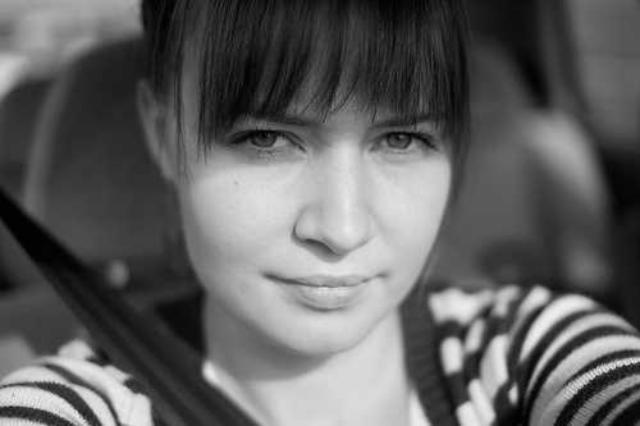SafeDriving: (218, 108, 320, 165), (355, 109, 451, 165)
Seatbelt: (0, 183, 267, 426)
